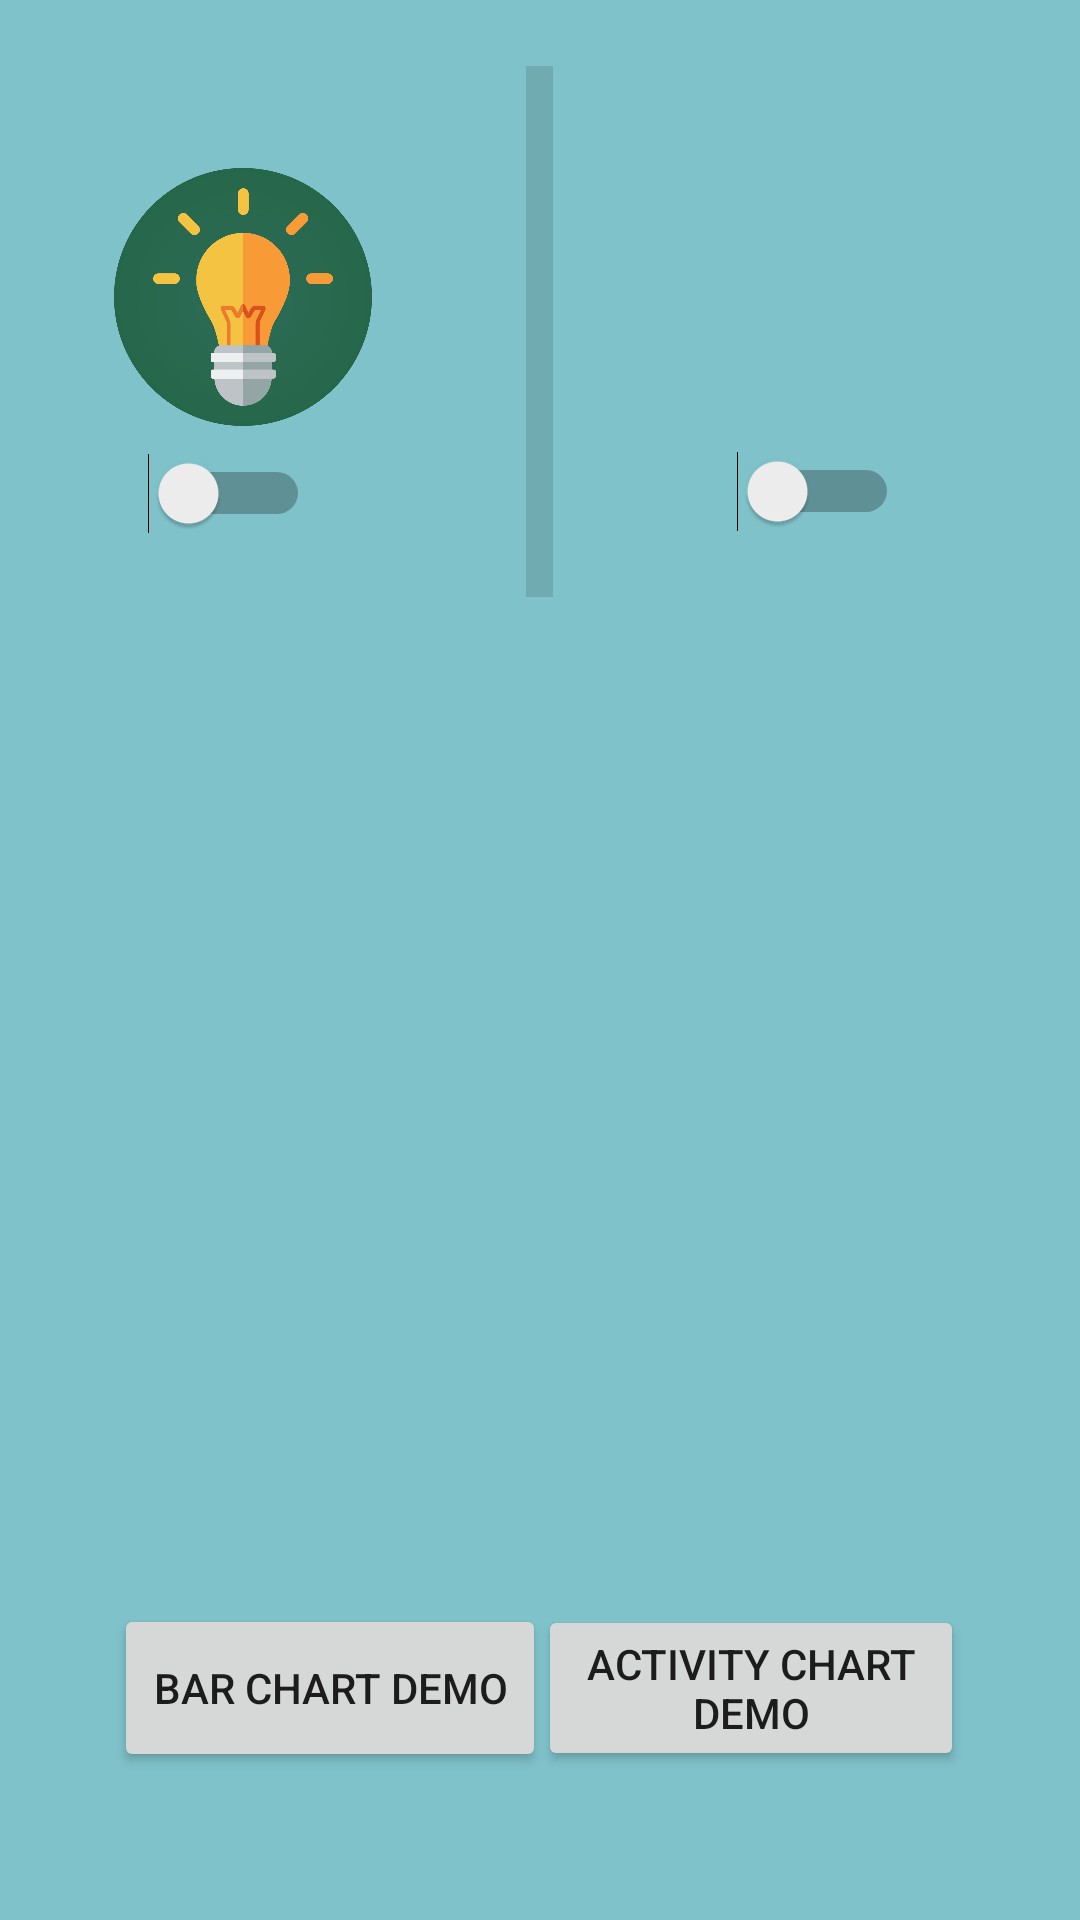

Point at icon controls on the screen. Image size 1080px×1920px, points as [x,y].
lamp: [243,297]
